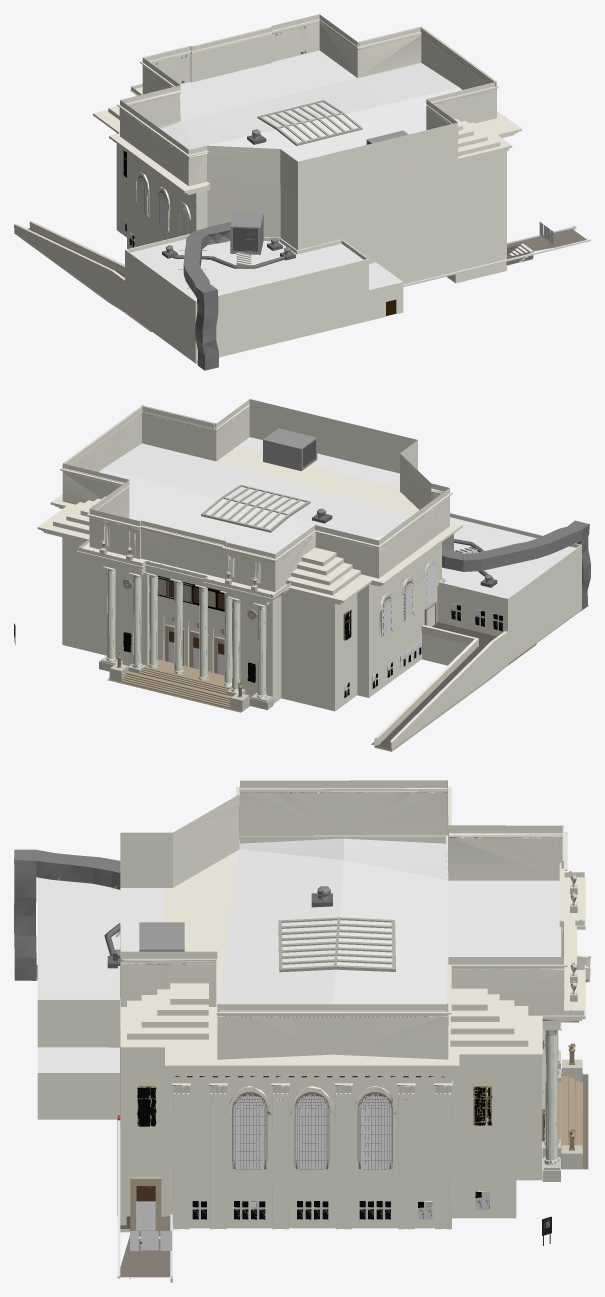
3 renders of one model, top to bottom at view 1: azimuth 30°, elevation 25°; view 2: azimuth 150°, elevation 25°; view 3: azimuth 270°, elevation 25°, orthographic. The views are drawn at different scales.
Visible parts, largest first — view 1: building; view 2: building; view 3: building.
Boxes of the visible parts, box(x1,y1,x2,y2) form: building: box(14, 14, 590, 370); building: box(37, 399, 590, 751); building: box(14, 780, 590, 1282).
Size of the model in its own units: 271 by 97.52 by 209.
Materials: 2 (2 with a texture image).
